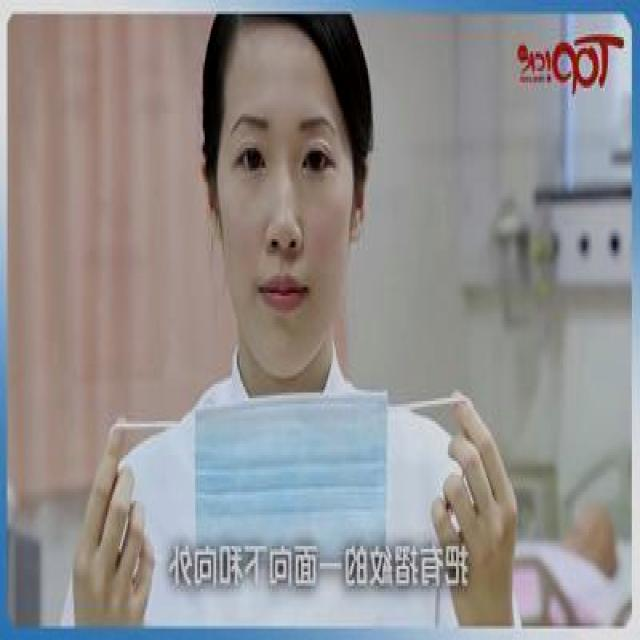face_nomask: (218, 97, 356, 376)
hand_noglove: (422, 390, 525, 608), (70, 424, 165, 628)
head_nohelmet: (202, 17, 370, 94)
person: (91, 0, 523, 634)
